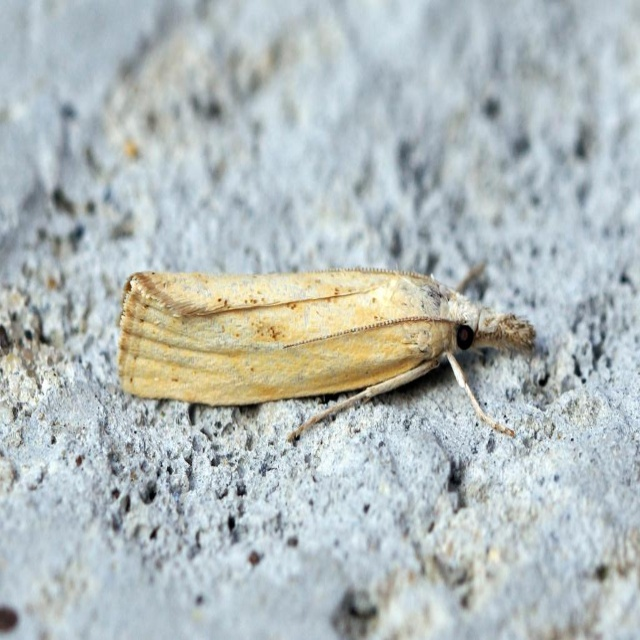Moths and butterflies: (117, 268, 538, 439)
